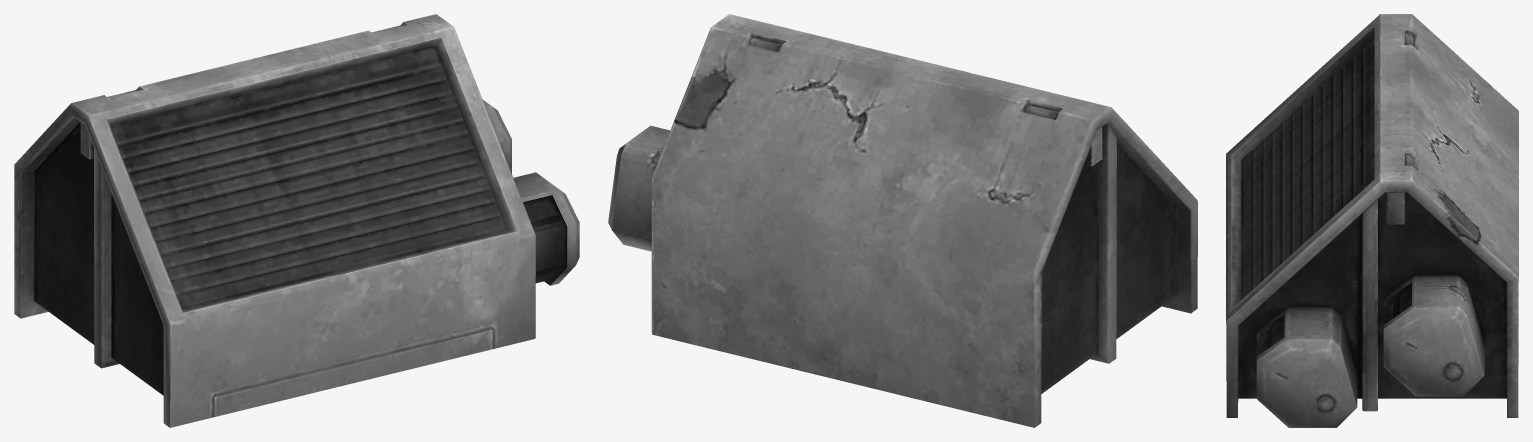
File: ventilation_theta.DAE
3 views of the same model, side by side, from view 1: azimuth 30°, elevation 25°; view 2: azimuth 150°, elevation 25°; view 3: azimuth 270°, elevation 25° (orthographic). The views are drawn at different scales.
Parts seen in each view (by area): view 1: ventilation_theta; view 2: ventilation_theta; view 3: ventilation_theta.
Boxes of the visible parts, left/top/right/bottom form: ventilation_theta: left=14, top=14, right=579, bottom=427; ventilation_theta: left=608, top=14, right=1197, bottom=427; ventilation_theta: left=1226, top=14, right=1518, bottom=427.
Bounding box in the file's own units: 101 × 63.34 × 56.57.
